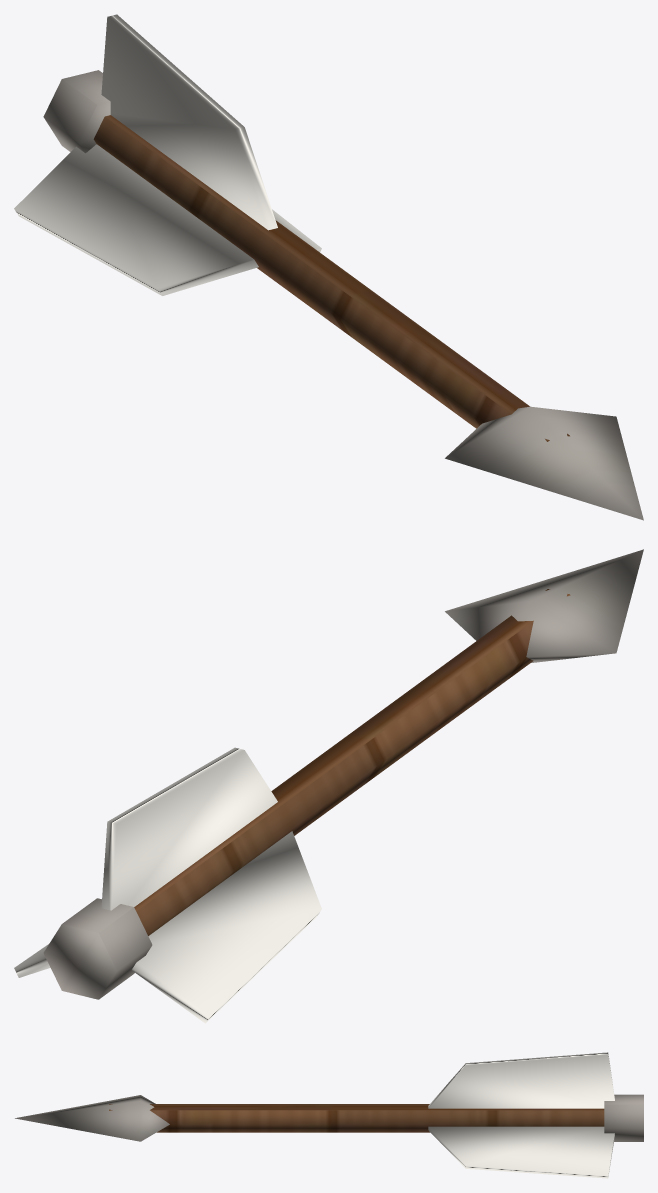
File: arrow.glb
3 renders of one model, top to bottom at view 1: azimuth 30°, elevation 25°; view 2: azimuth 150°, elevation 25°; view 3: azimuth 270°, elevation 25°, orthographic. The views are drawn at different scales.
Parts seen in each view (by area): view 1: fx.arrow.mesh; view 2: fx.arrow.mesh; view 3: fx.arrow.mesh.
Boxes of the visible parts, x1,y1,x2,y2 form: fx.arrow.mesh: (14, 14, 643, 520); fx.arrow.mesh: (14, 549, 643, 1023); fx.arrow.mesh: (15, 1052, 643, 1178).
Size of the model in its own units: 0.1599 by 0.1385 by 0.795.
3 materials, 2 textured.
